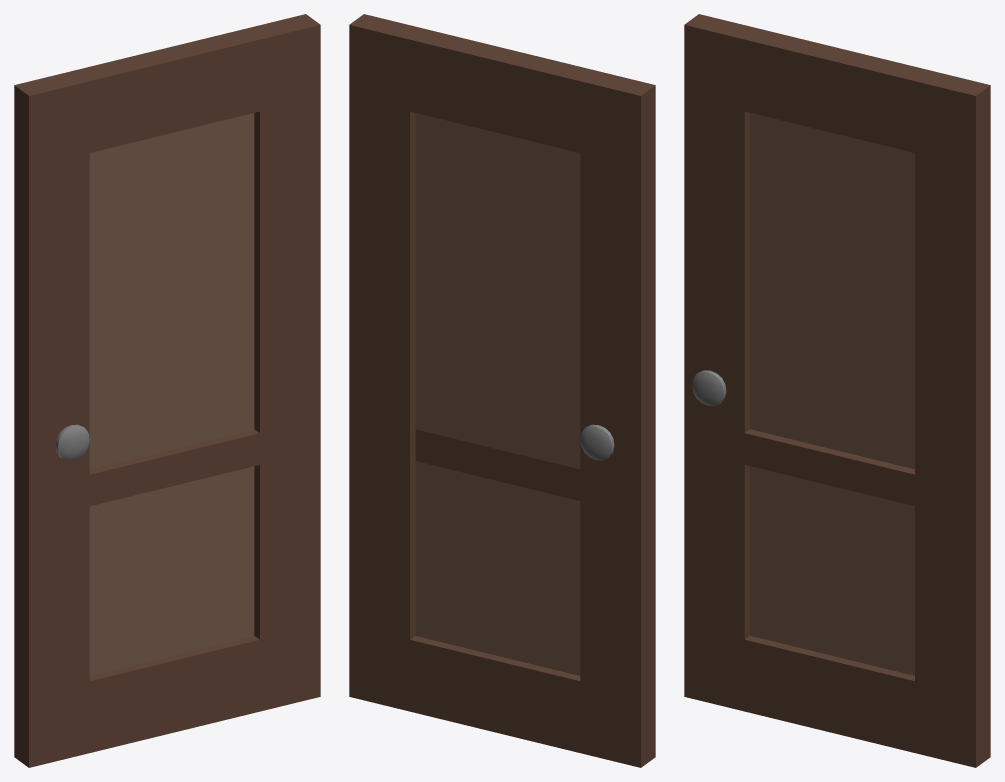
Rendered from SM_Buildings_House_13_Door_01.fbx.
3 renders of one model, left to right at view 1: azimuth 30°, elevation 25°; view 2: azimuth 150°, elevation 25°; view 3: azimuth 330°, elevation 25°, orthographic.
Parts seen in each view (by area): view 1: SM_Buildings_House_13_Door_01; view 2: SM_Buildings_House_13_Door_01; view 3: SM_Buildings_House_13_Door_01.
Part boxes in pixels (x1,y1,x2,y2): SM_Buildings_House_13_Door_01: (14, 14, 320, 767); SM_Buildings_House_13_Door_01: (349, 14, 655, 767); SM_Buildings_House_13_Door_01: (684, 14, 990, 767).
Size of the model in its own units: 0.9239 by 2.03 by 0.218.
